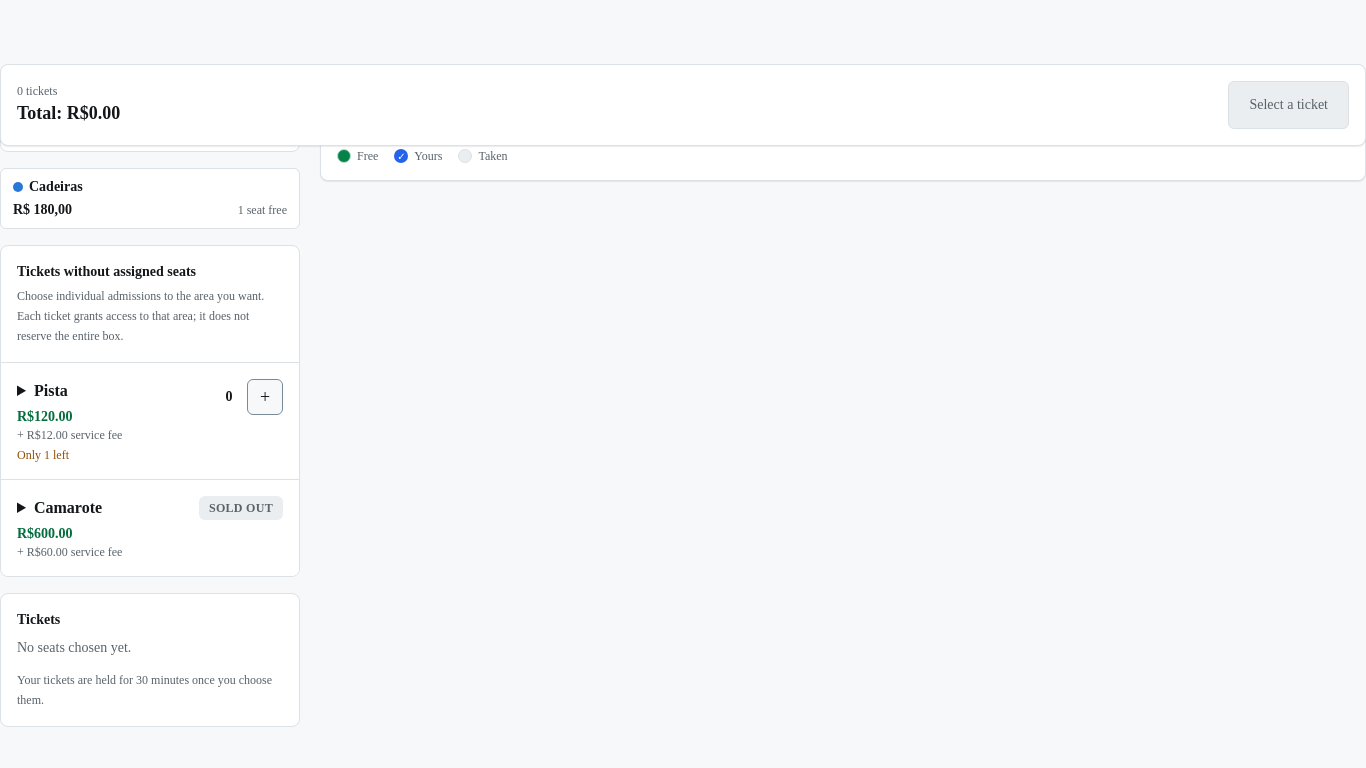
mixed-event ticket purchase › respects stock and hides controls for tickets not on sale
Click the button named "Add one Pista ticket": (265,397) [247,379,283,415]
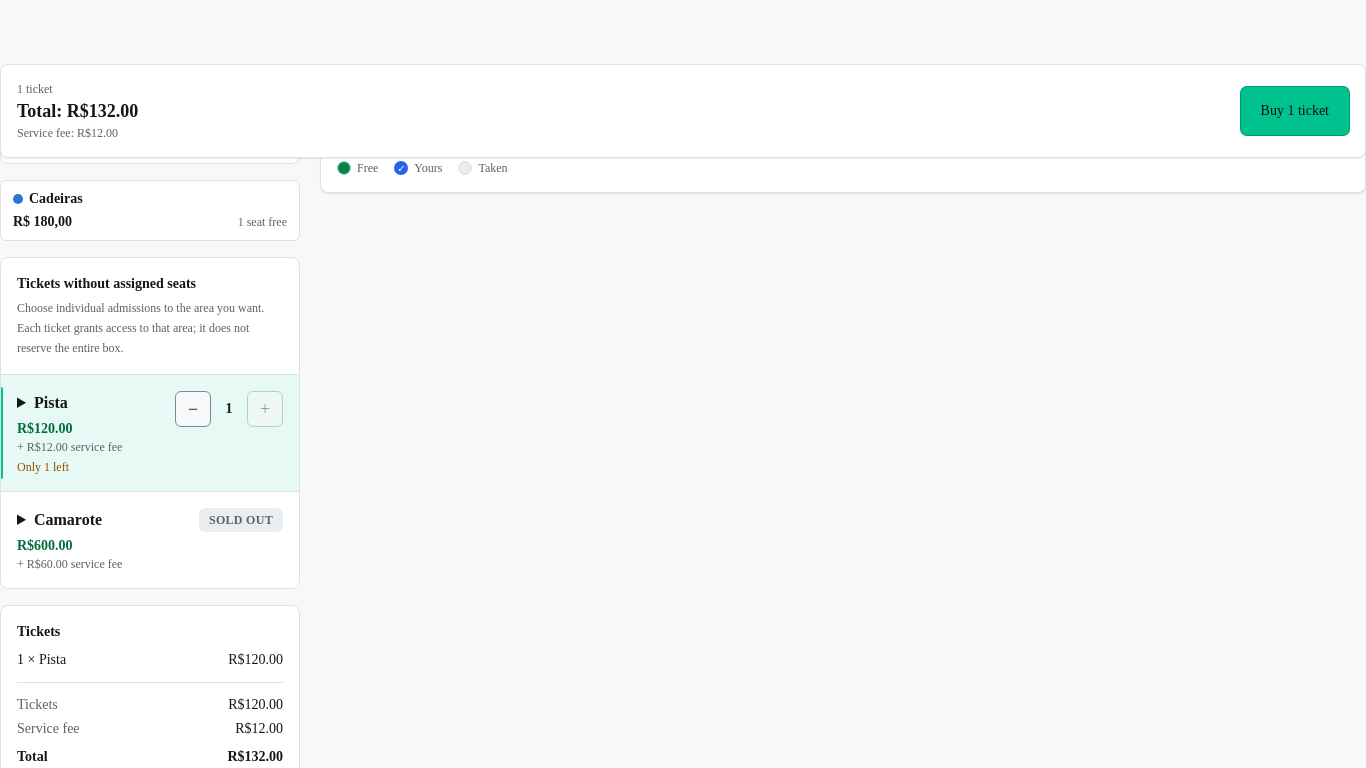
expect the button named "Add one Pista ticket" is disabled: met, box [247,391,283,427]
